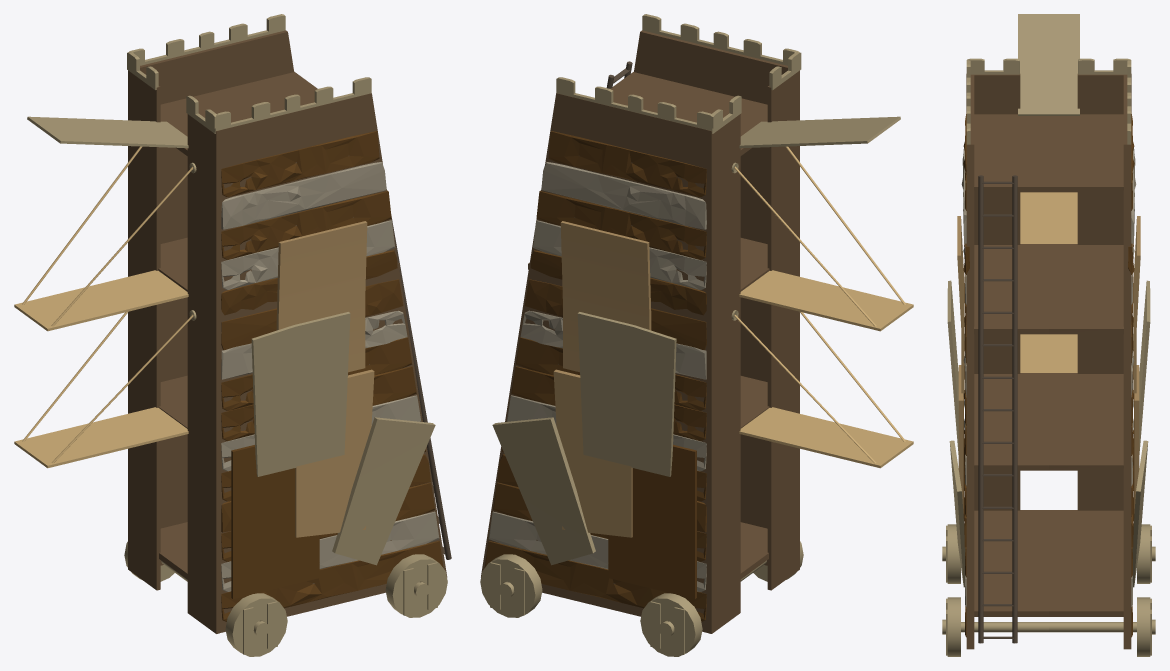
The model's file is SM_siege_tower.fbx.
The picture shows the model from 3 angles, left to right: view 1: azimuth 30°, elevation 25°; view 2: azimuth 150°, elevation 25°; view 3: azimuth 270°, elevation 25°; orthographic projection. The views are drawn at different scales.
Visible parts, largest first — view 1: siege_tower; view 2: siege_tower; view 3: siege_tower.
Boxes of the visible parts, x1,y1,x2,y2 form: siege_tower: (14, 14, 451, 656); siege_tower: (480, 14, 913, 656); siege_tower: (942, 14, 1155, 656).
Size of the model in its own units: 780 by 1052 by 402.
